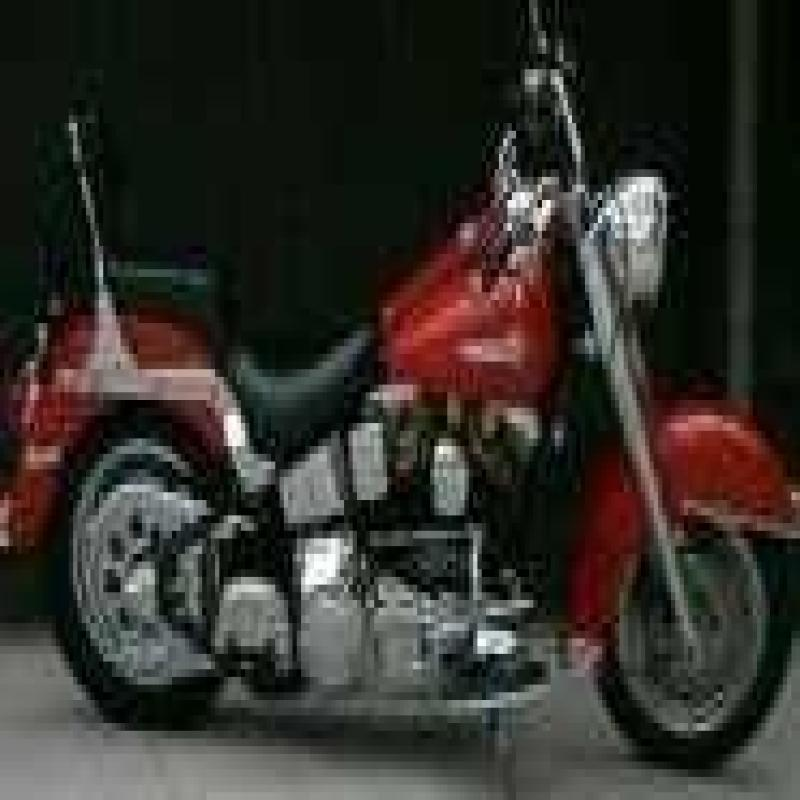bike: (4, 31, 800, 769)
